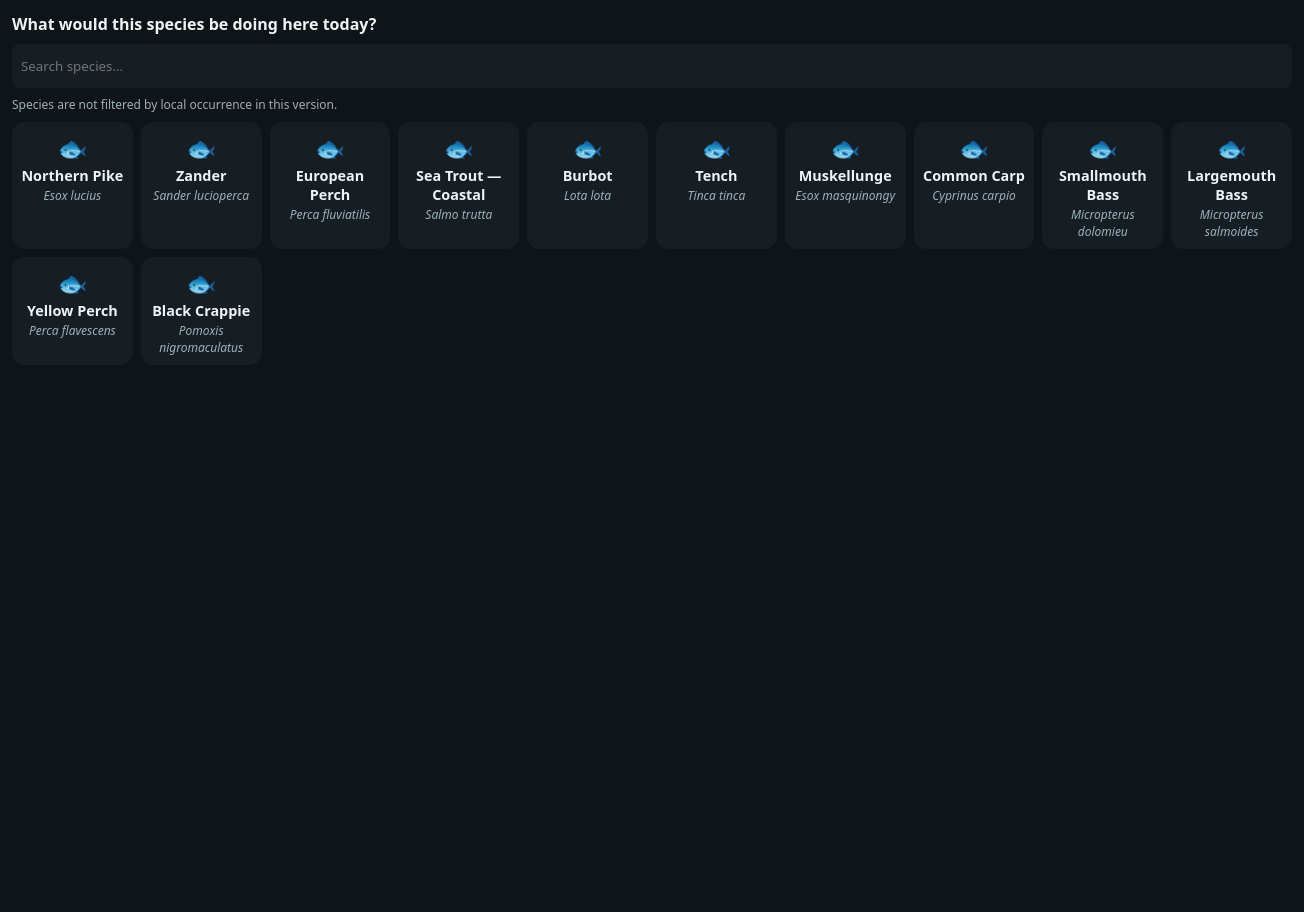
Test case: FishActivityView › adjusting water temperature does not change the selected species or reset to the catalog
The image size is (1304, 912).
Click the button "🐟 Zander Sander lucioperca" at (201, 186), box x1=141 y1=122 x2=262 y2=249
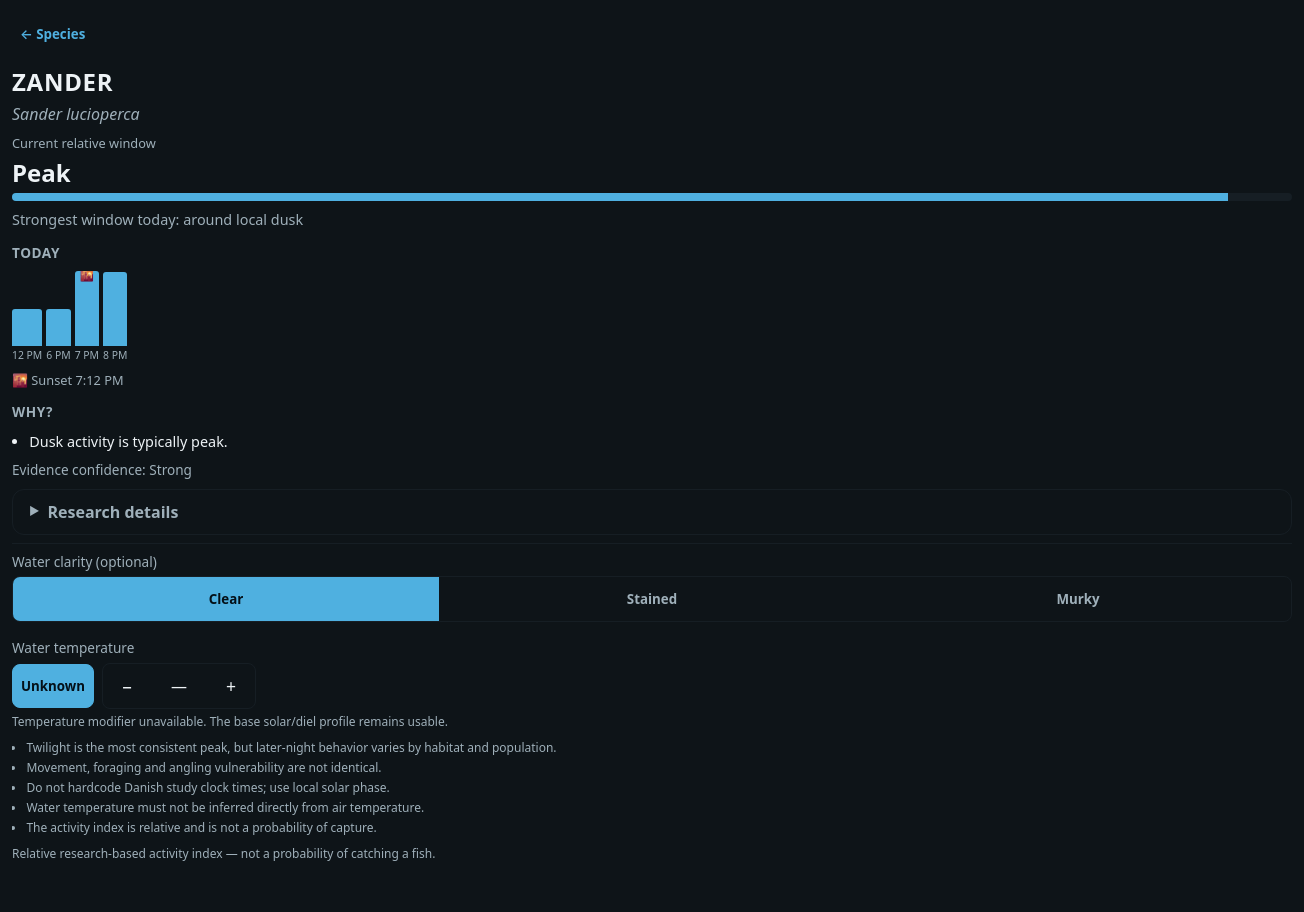
Click the button named "Increase water temperature" at (231, 686), box x1=215 y1=664 x2=247 y2=708
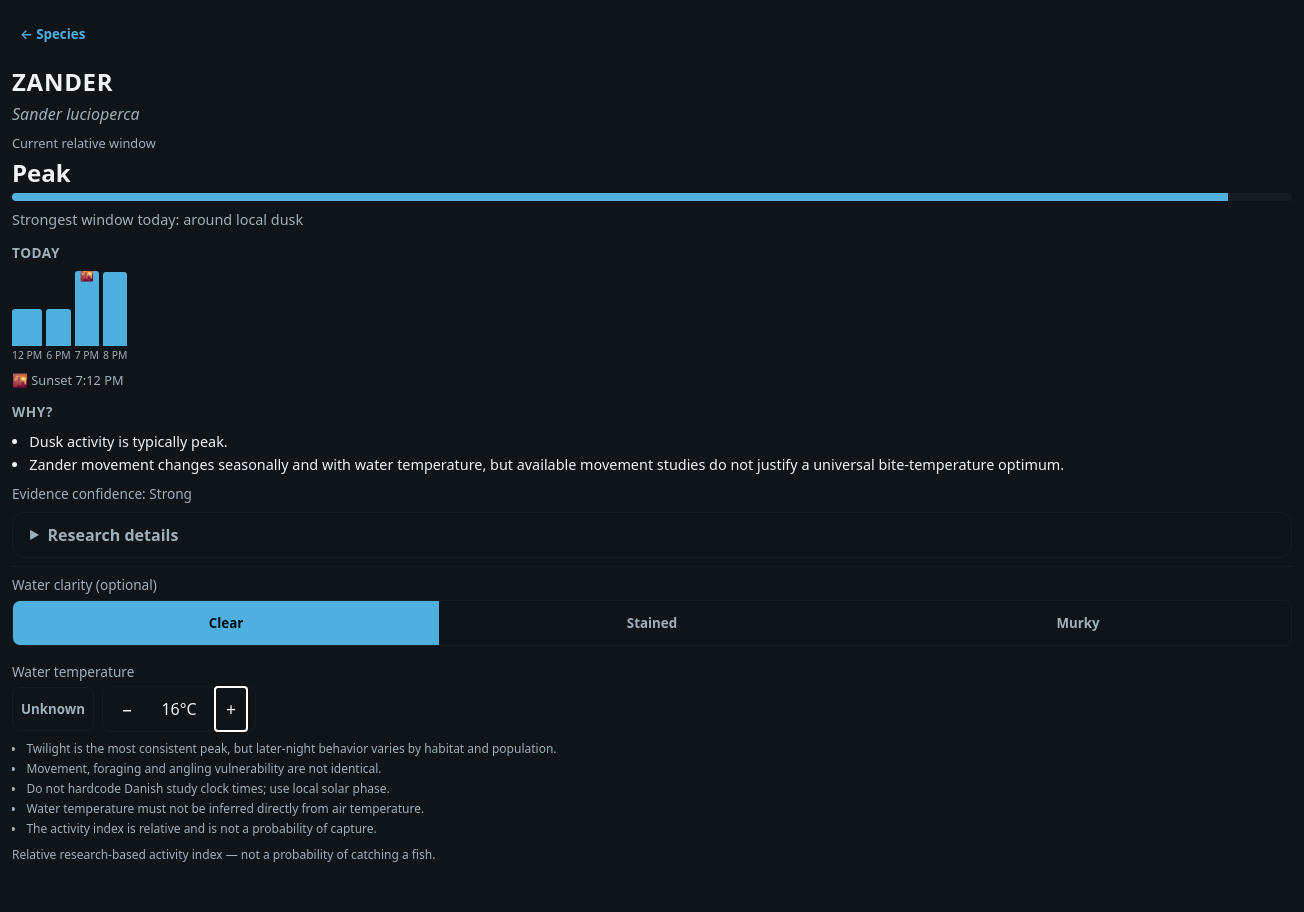
expect the heading "Zander" is shown: met, box x1=12 y1=65 x2=113 y2=98
expect the text "16°C" is shown: met, box x1=161 y1=698 x2=197 y2=720
